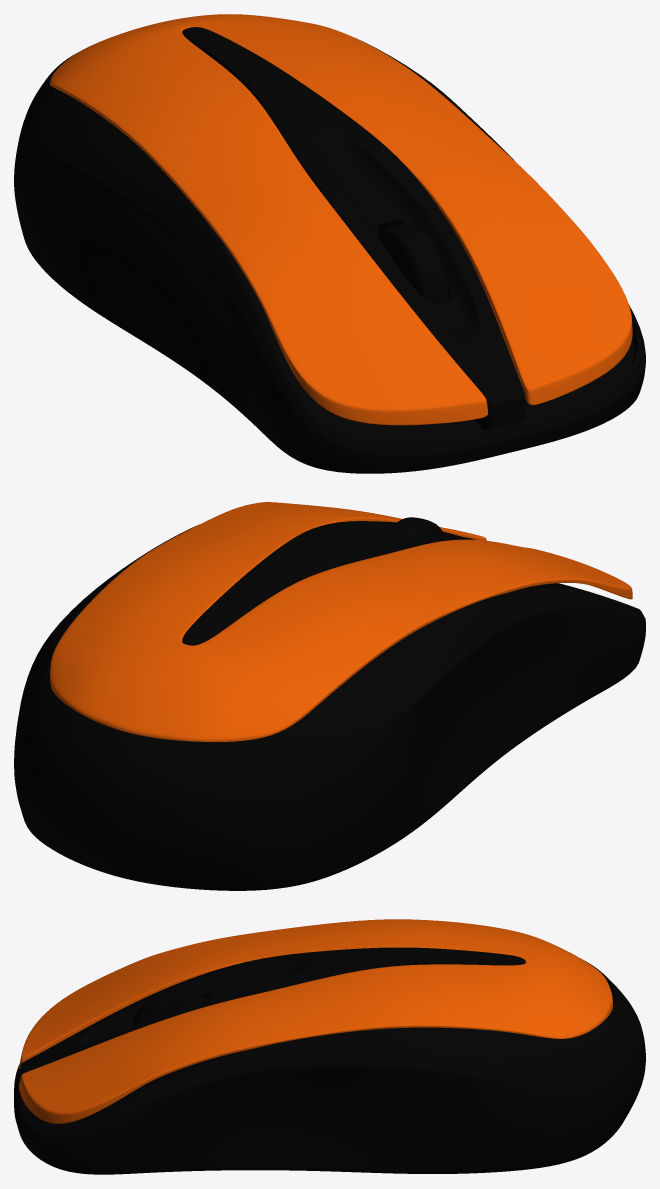
File: mouse.glb
3 views of the same model, one above another, from view 1: azimuth 30°, elevation 25°; view 2: azimuth 150°, elevation 25°; view 3: azimuth 270°, elevation 25° (orthographic). The views are drawn at different scales.
Parts seen in each view (by area): view 1: Cylinder; view 2: Cylinder; view 3: Cylinder.
Part boxes in pixels (box(x1,y1,x2,y2)): Cylinder: box(14, 14, 645, 473); Cylinder: box(14, 502, 645, 890); Cylinder: box(14, 919, 645, 1174).
Bounding box in the file's own units: 457 × 248 × 902.
